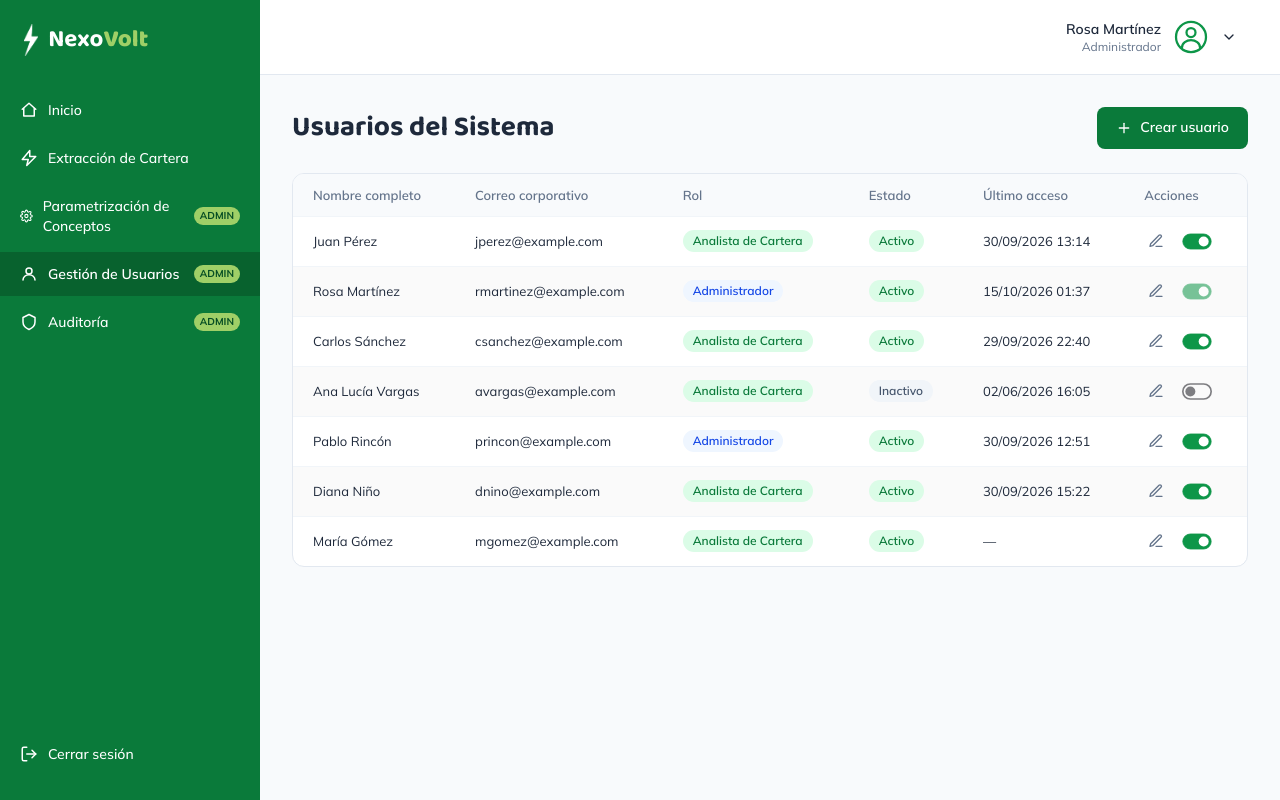
Scenario: activar y desactivar › confirmar desactiva al usuario
Expected: the text "Juan Pérez" is shown, [293,216,455,266]
Click the switch named "Usuario Carlos Sánchez activo" at (1197, 341), box [1178,329,1216,354]
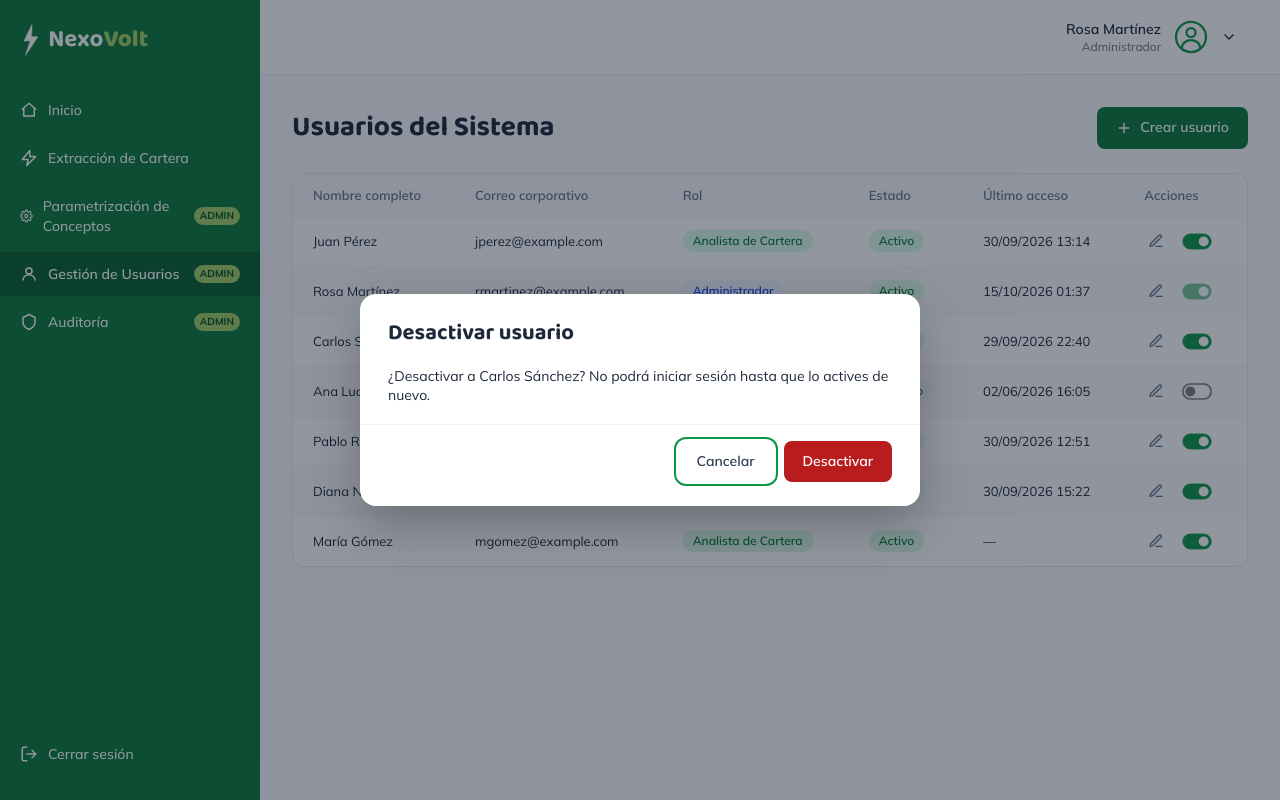
Click the button "Desactivar" at (838, 461), box [784,441,892,482]
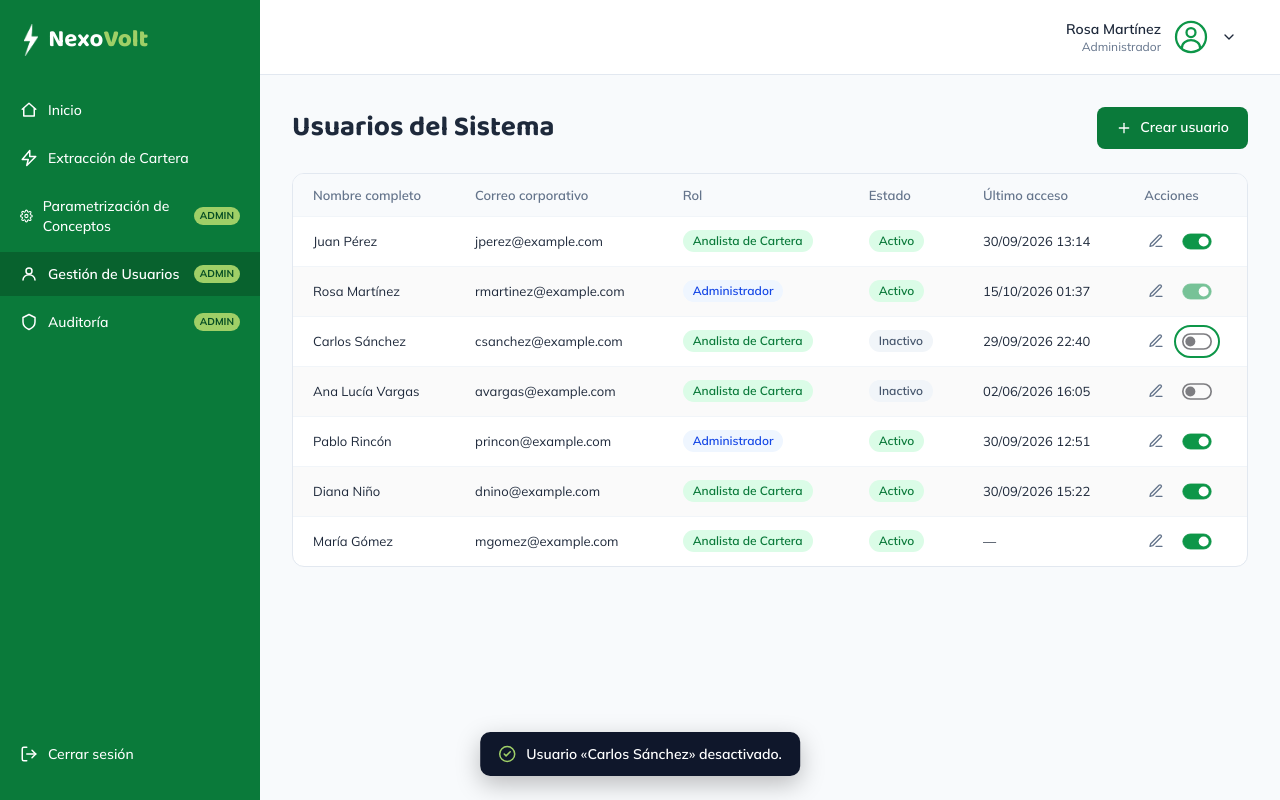
Expected: the text "Usuario «Carlos Sánchez» desactivado." is shown, [526,744,782,764]
Expected: the text "Inactivo" in the row of "csanchez@example.com" is shown, [879,333,923,348]
